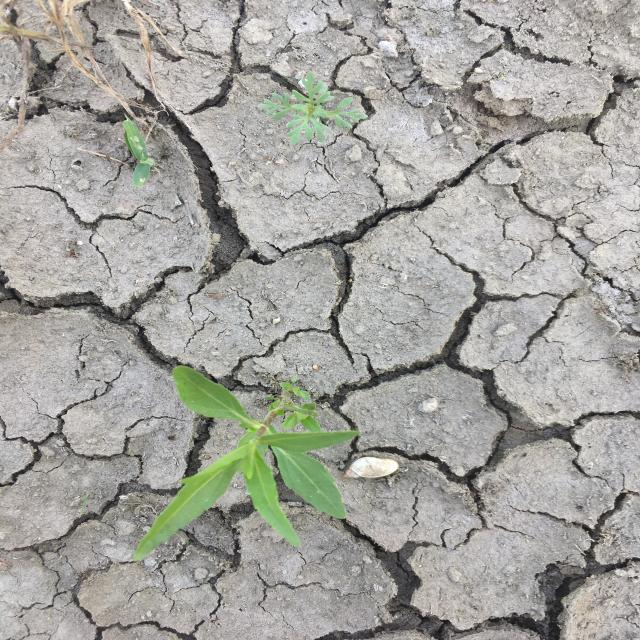Eclipta: (130, 364, 366, 563)
Ragweed: (254, 71, 370, 146)
